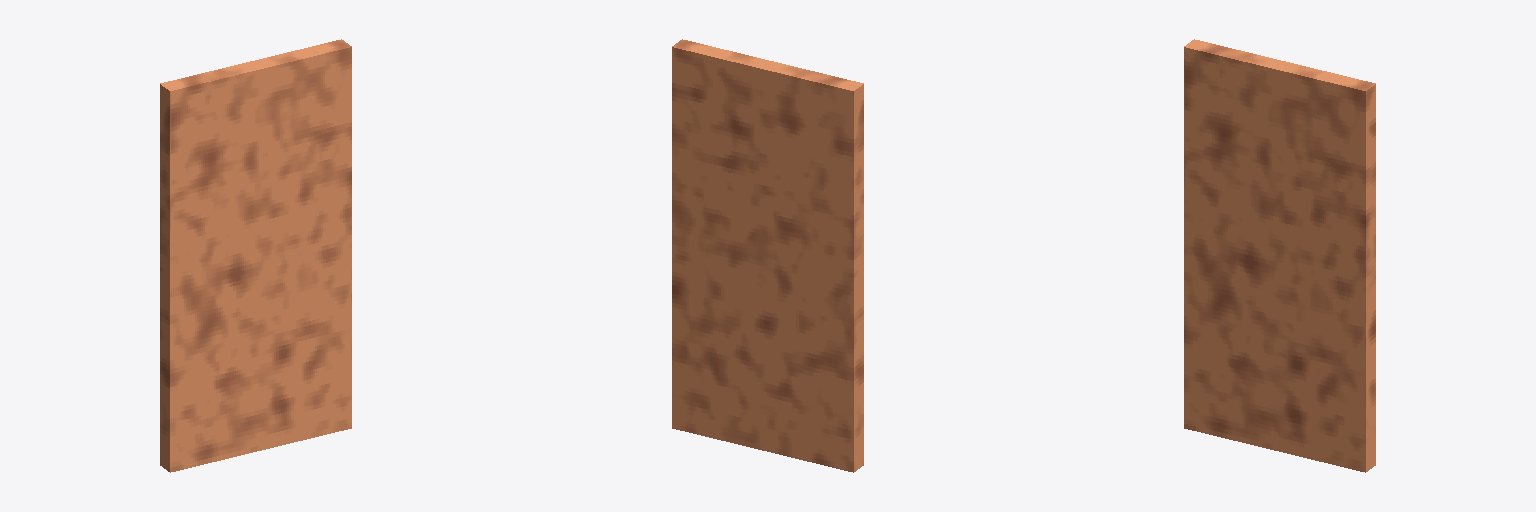
The picture shows the model from 3 angles: view 1: azimuth 30°, elevation 25°; view 2: azimuth 150°, elevation 25°; view 3: azimuth 330°, elevation 25°; orthographic projection.
Visible parts, largest first — view 1: Cube; view 2: Cube; view 3: Cube.
Part boxes in pixels (x1,y1,x2,y2): Cube: (160,39,351,472); Cube: (672,39,863,472); Cube: (1184,39,1375,472).
Size of the model in its own units: 2 by 4 by 0.2.
1 materials, 1 textured.